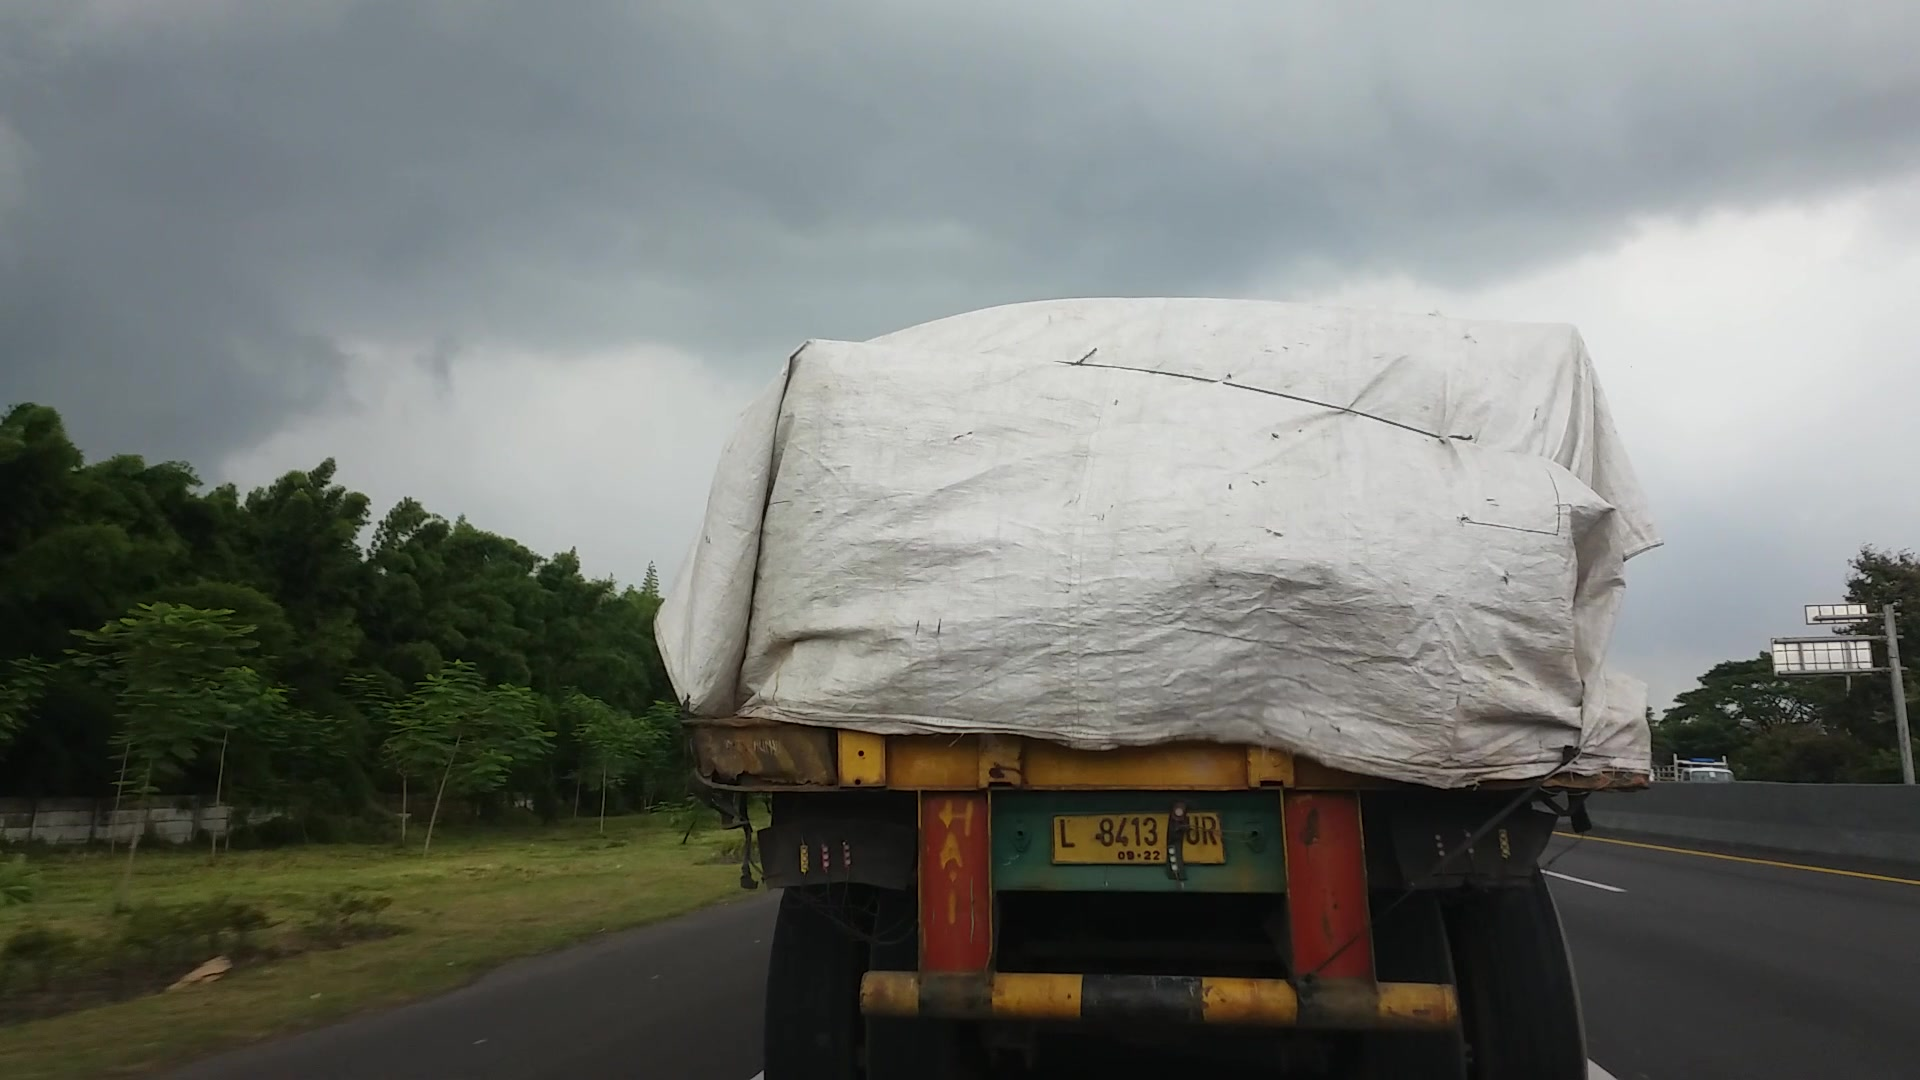plate_positive: (1052, 811, 1225, 864)
